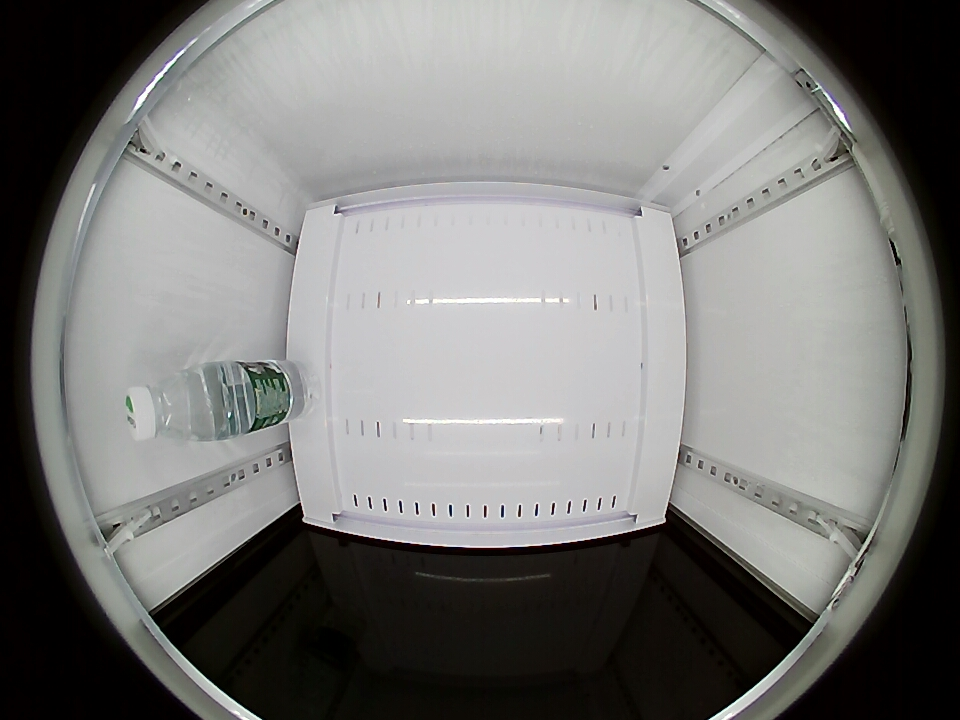yibao: (124, 364, 223, 443)
